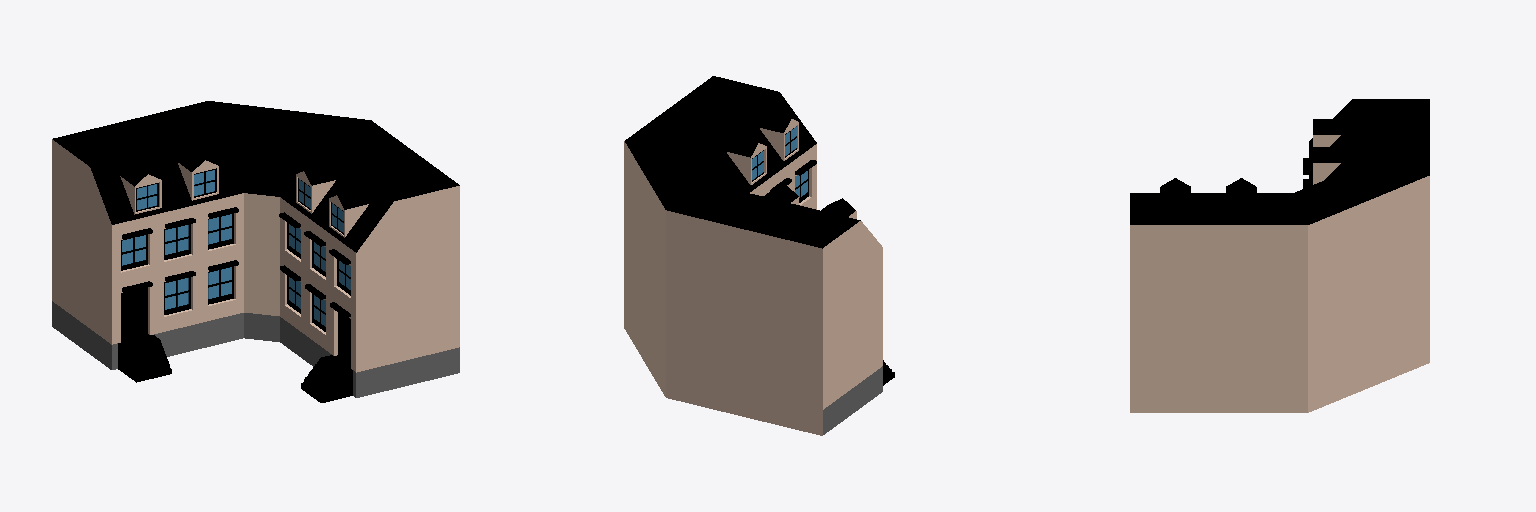
3 renders of one model, left to right at view 1: azimuth 30°, elevation 25°; view 2: azimuth 150°, elevation 25°; view 3: azimuth 270°, elevation 25°, orthographic.
Parts seen in each view (by area): view 1: Cube.096; view 2: Cube.096; view 3: Cube.096.
Part boxes in pixels (bbox=[...]): Cube.096: bbox=[52, 101, 459, 402]; Cube.096: bbox=[624, 76, 894, 435]; Cube.096: bbox=[1130, 99, 1429, 412].
Size of the model in its own units: 11.97 by 8.3 by 12.
Materials: 1 (1 with a texture image).